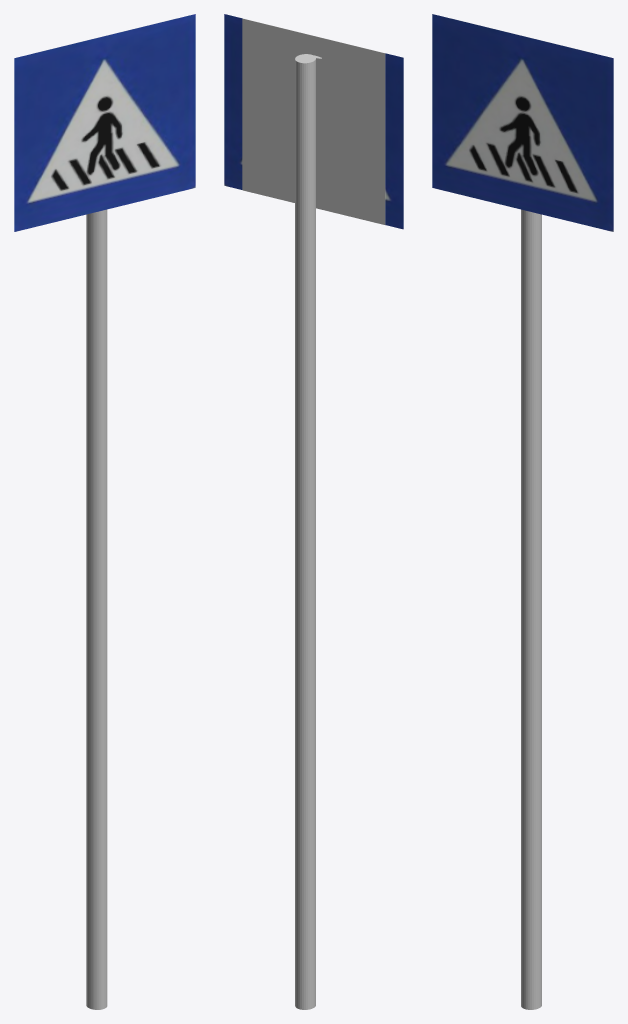
The picture shows the model from 3 angles, left to right: view 1: azimuth 30°, elevation 25°; view 2: azimuth 150°, elevation 25°; view 3: azimuth 330°, elevation 25°; orthographic projection.
Parts seen in each view (by area): view 1: SM_zhishipai_05; view 2: SM_zhishipai_05; view 3: SM_zhishipai_05.
Part boxes in pixels (x1=…): SM_zhishipai_05: x1=14, y1=14, x2=195, y2=1009; SM_zhishipai_05: x1=224, y1=14, x2=403, y2=1009; SM_zhishipai_05: x1=432, y1=14, x2=613, y2=1009.
Size of the model in its own units: 3.21 by 16.52 by 0.4286.
2 materials, 1 textured.
